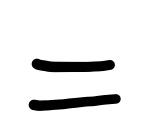eqv: (28, 58, 121, 111)
